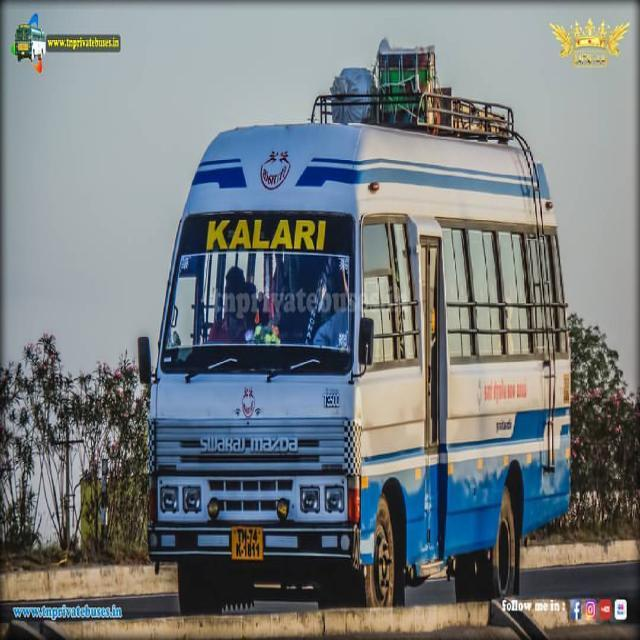Bus: (137, 41, 572, 600)
